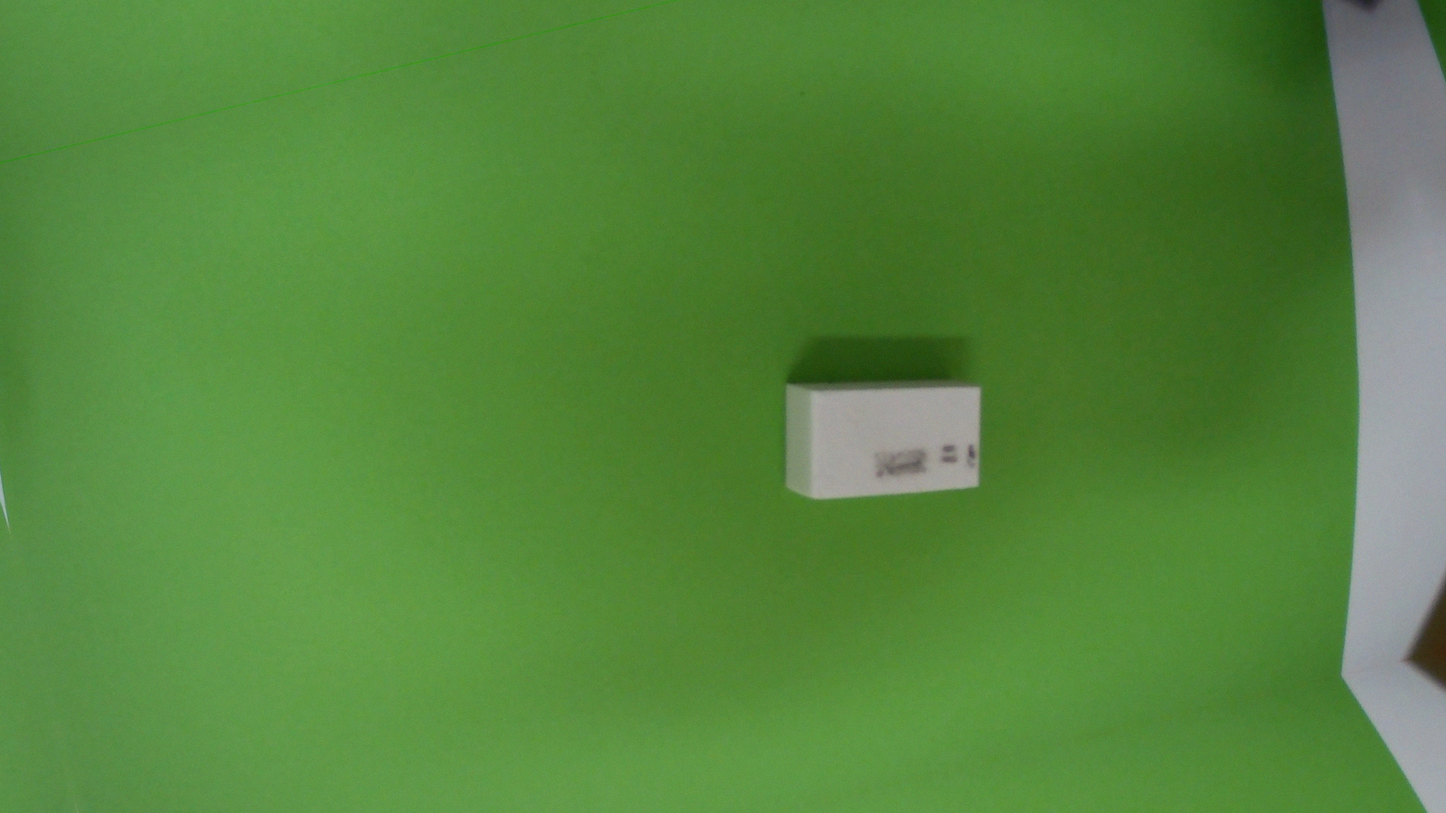gom: (762, 333, 1002, 537)
